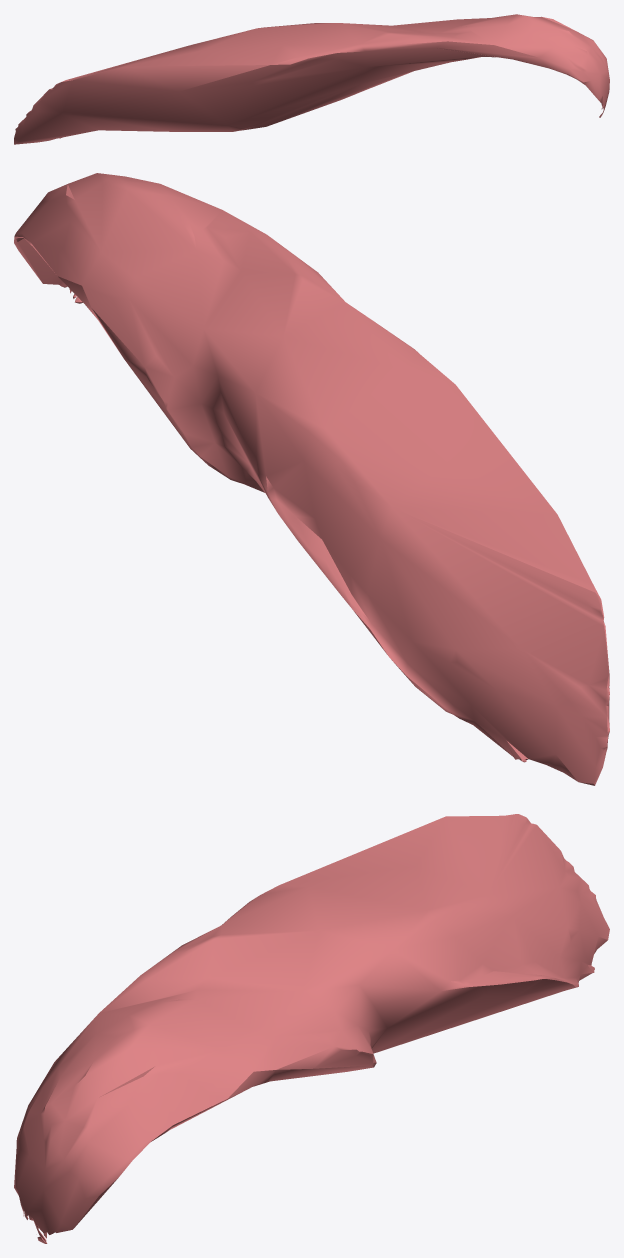
3 views of the same model, one above another, from view 1: azimuth 30°, elevation 25°; view 2: azimuth 150°, elevation 25°; view 3: azimuth 270°, elevation 25° (orthographic). The views are drawn at different scales.
Visible parts, largest first — view 1: FJ1506M; view 2: FJ1506M; view 3: FJ1506M.
Part boxes in pixels (x1=…): FJ1506M: x1=14, y1=14, x2=609, y2=144; FJ1506M: x1=14, y1=173, x2=609, y2=785; FJ1506M: x1=14, y1=814, x2=609, y2=1243.
Size of the model in its own units: 0.1239 by 0.0348 by 0.0785.
